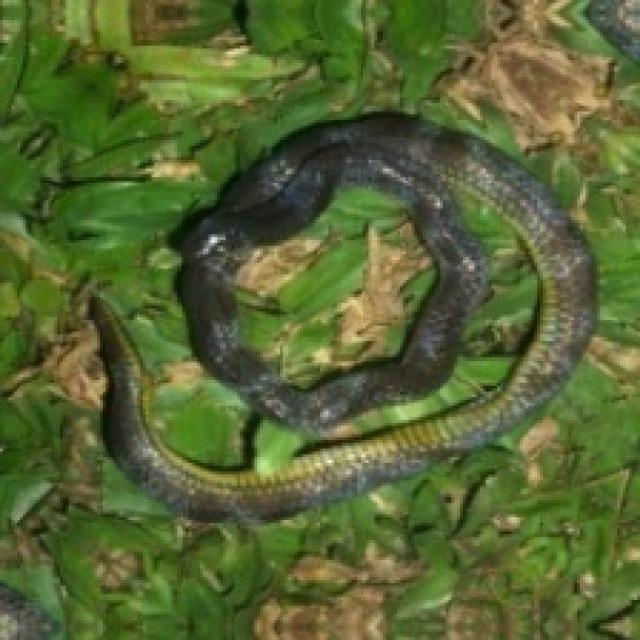gervais worm snake: (91, 114, 591, 520)
